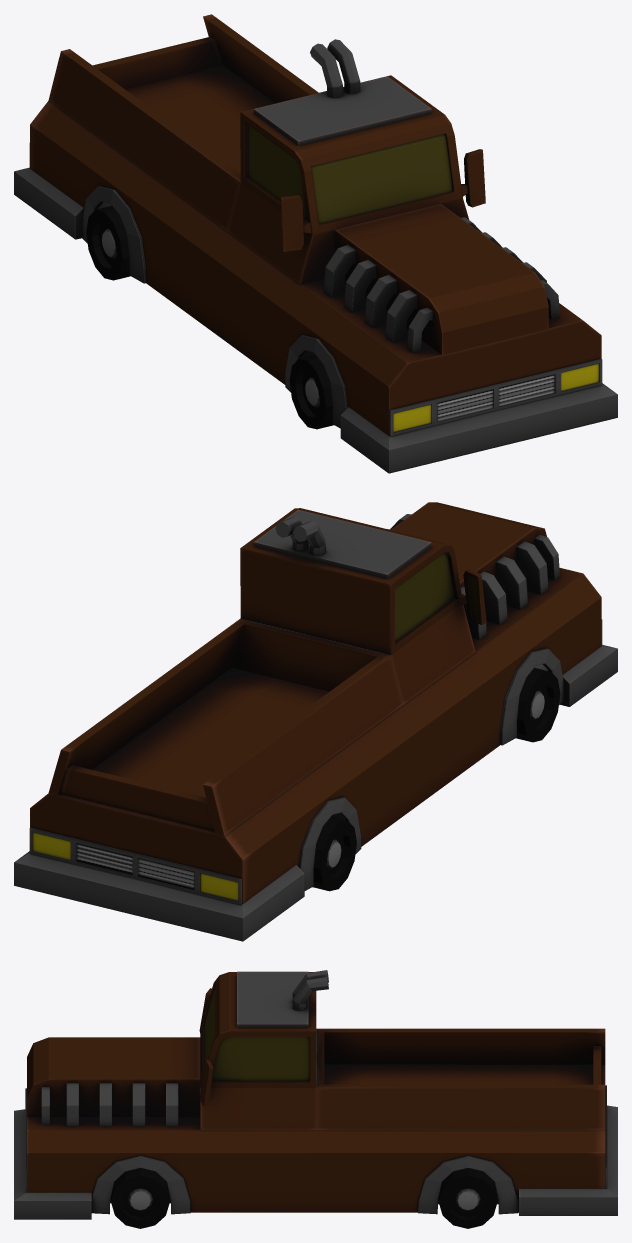
The model's file is Car3.fbx.
3 views of the same model, one above another, from view 1: azimuth 30°, elevation 25°; view 2: azimuth 150°, elevation 25°; view 3: azimuth 270°, elevation 25° (orthographic). The views are drawn at different scales.
Visible parts, largest first — view 1: Car3, Bwheels right3, Fwheels right3; view 2: Car3, Bwheels right3, Fwheels right3; view 3: Car3, Bwheels Left3, Fwheels Left3.
Boxes of the visible parts, left/top/right/bottom form: Car3: left=14, top=14, right=617, bottom=473; Bwheels right3: left=86, top=206, right=130, bottom=280; Fwheels right3: left=289, top=354, right=333, bottom=429; Car3: left=14, top=502, right=617, bottom=941; Bwheels right3: left=312, top=816, right=356, bottom=891; Fwheels right3: left=516, top=667, right=560, bottom=742; Car3: left=14, top=970, right=617, bottom=1219; Bwheels Left3: left=438, top=1168, right=497, bottom=1228; Fwheels Left3: left=111, top=1168, right=169, bottom=1228.
Size of the model in its own units: 174 by 190 by 481.
5 materials, 5 textured.
